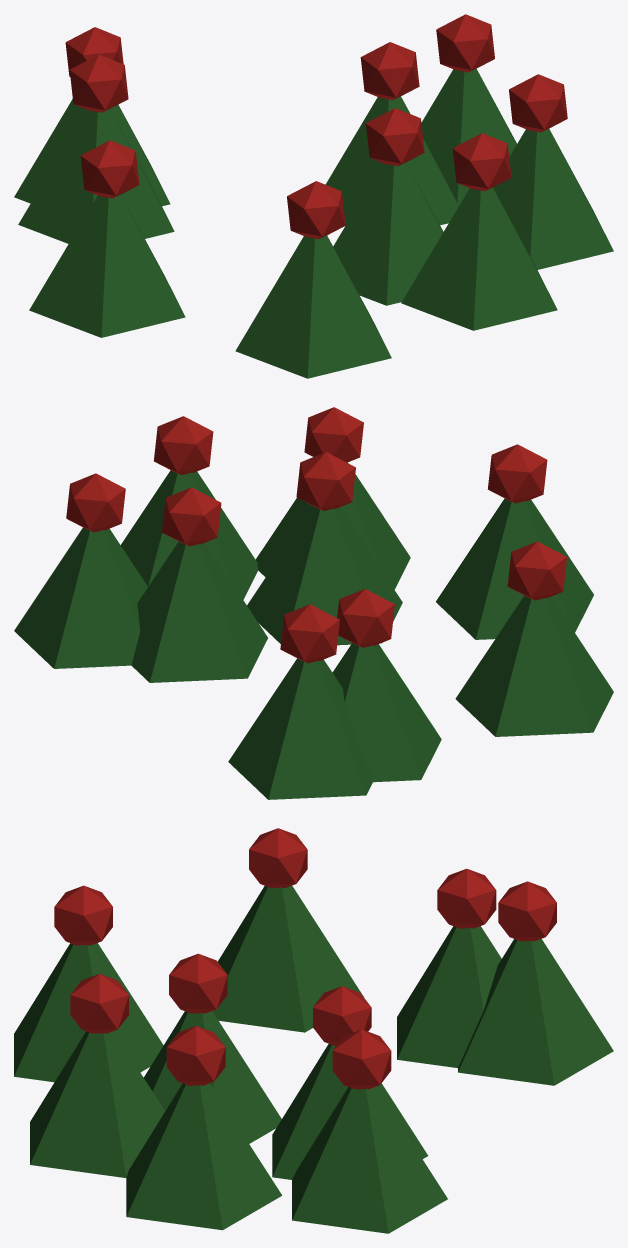
Rendered from SM_GZ_res_herb.fbx.
3 views of the same model, one above another, from view 1: azimuth 30°, elevation 25°; view 2: azimuth 150°, elevation 25°; view 3: azimuth 270°, elevation 25° (orthographic). The views are drawn at different scales.
Visible parts, largest first — view 1: SM_GZ_res_herb; view 2: SM_GZ_res_herb; view 3: SM_GZ_res_herb.
Boxes of the visible parts, x1,y1,x2,y2 form: SM_GZ_res_herb: [14, 14, 613, 378]; SM_GZ_res_herb: [14, 407, 613, 799]; SM_GZ_res_herb: [14, 828, 613, 1233].
Size of the model in its own units: 260 by 76 by 243.
